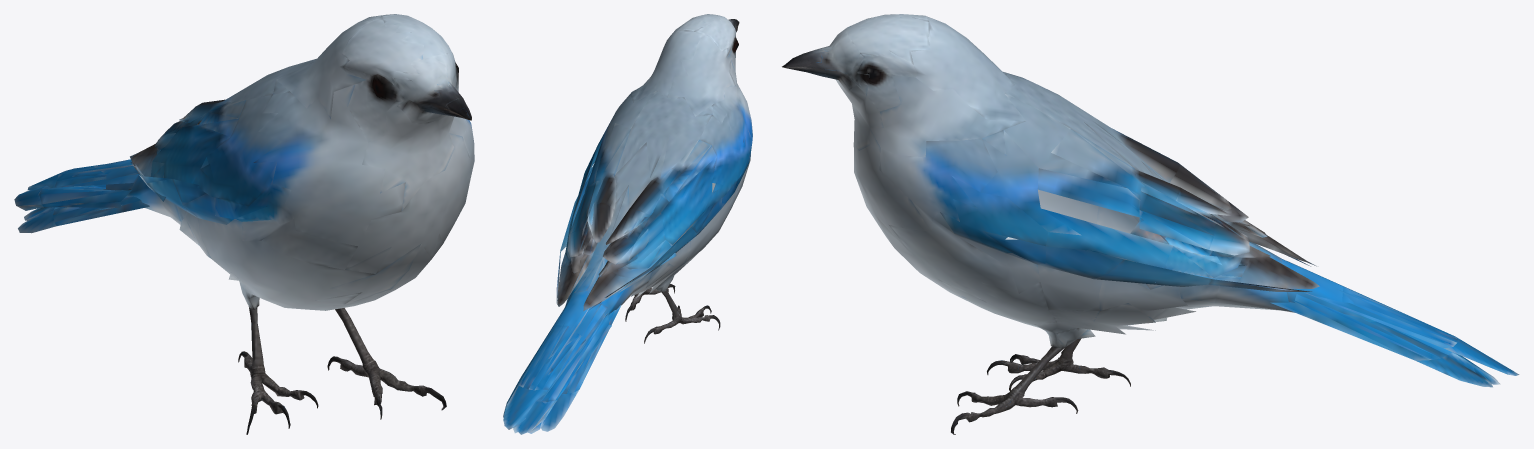
The model's file is Meshy_AI_Blue_Bird_Smart_Topol_1012035232_texture.glb.
The picture shows the model from 3 angles, left to right: view 1: azimuth 30°, elevation 25°; view 2: azimuth 150°, elevation 25°; view 3: azimuth 270°, elevation 25°; orthographic projection. The views are drawn at different scales.
Parts seen in each view (by area): view 1: mesh_0; view 2: mesh_0; view 3: mesh_0.
Boxes of the visible parts, <box> form: mesh_0: <box>14,14,474,434</box>; mesh_0: <box>503,14,752,434</box>; mesh_0: <box>782,14,1519,434</box>.
Bounding box in the file's own units: 0.2925 × 0.5654 × 0.9619.
Materials: 1 (1 with a texture image).
